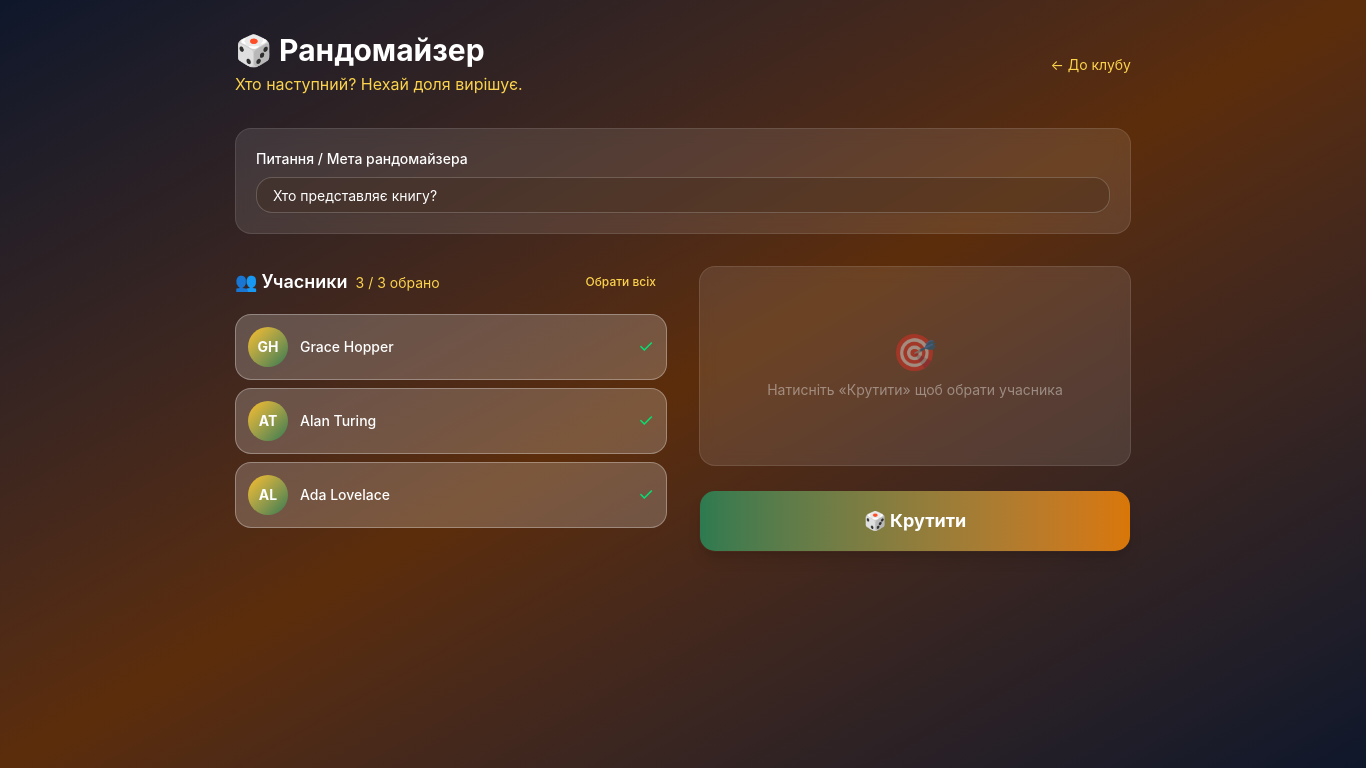
Scenario: Randomizer › needs two selected members to spin, and says so
This screenshot has width=1366, height=768.
Check: the text "Grace Hopper" is shown, box [300,338,394,355]
Click the button "AT Alan Turing ✓" at [268, 421], box [235,388,667,454]
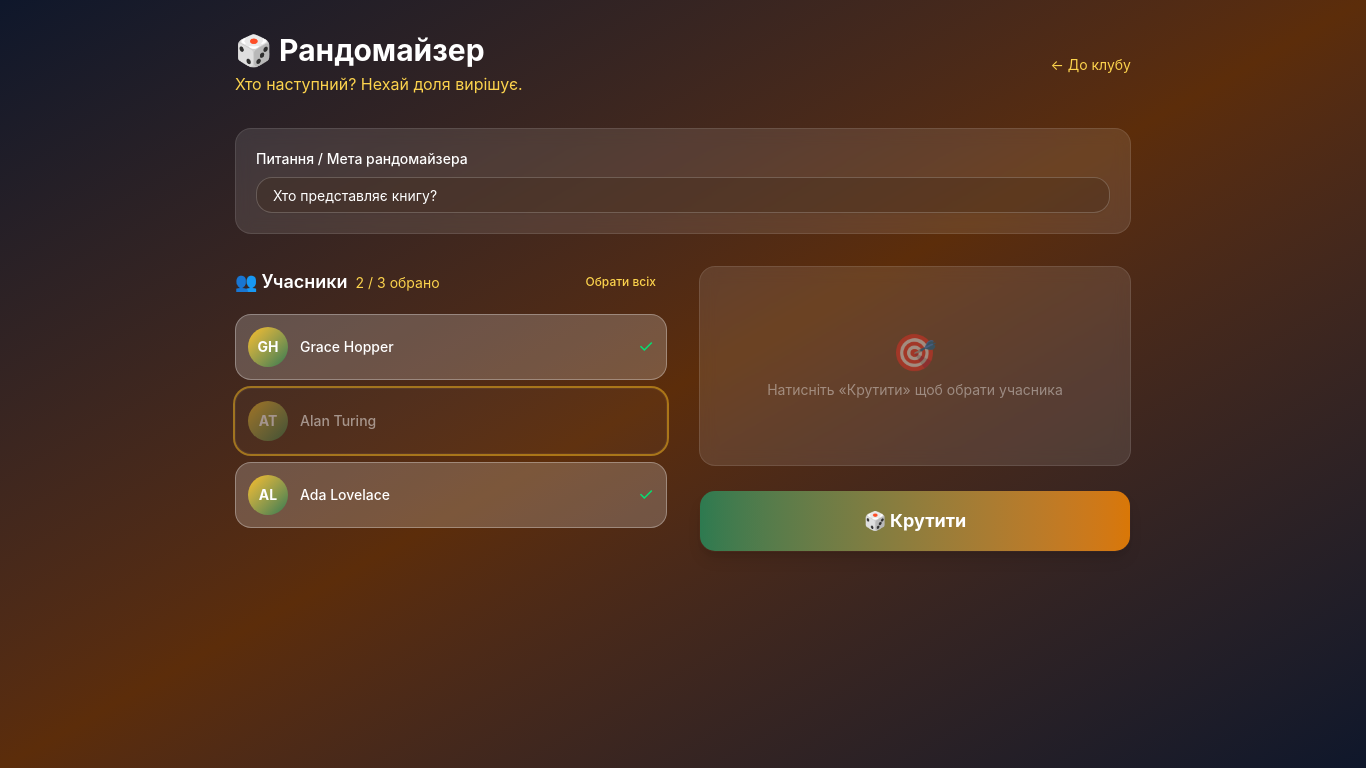
Check: the button with test id "spin-button" is enabled, box [699,490,1131,552]
Click the button "AL Ada Lovelace ✓" at [268, 495], box [235,462,667,528]
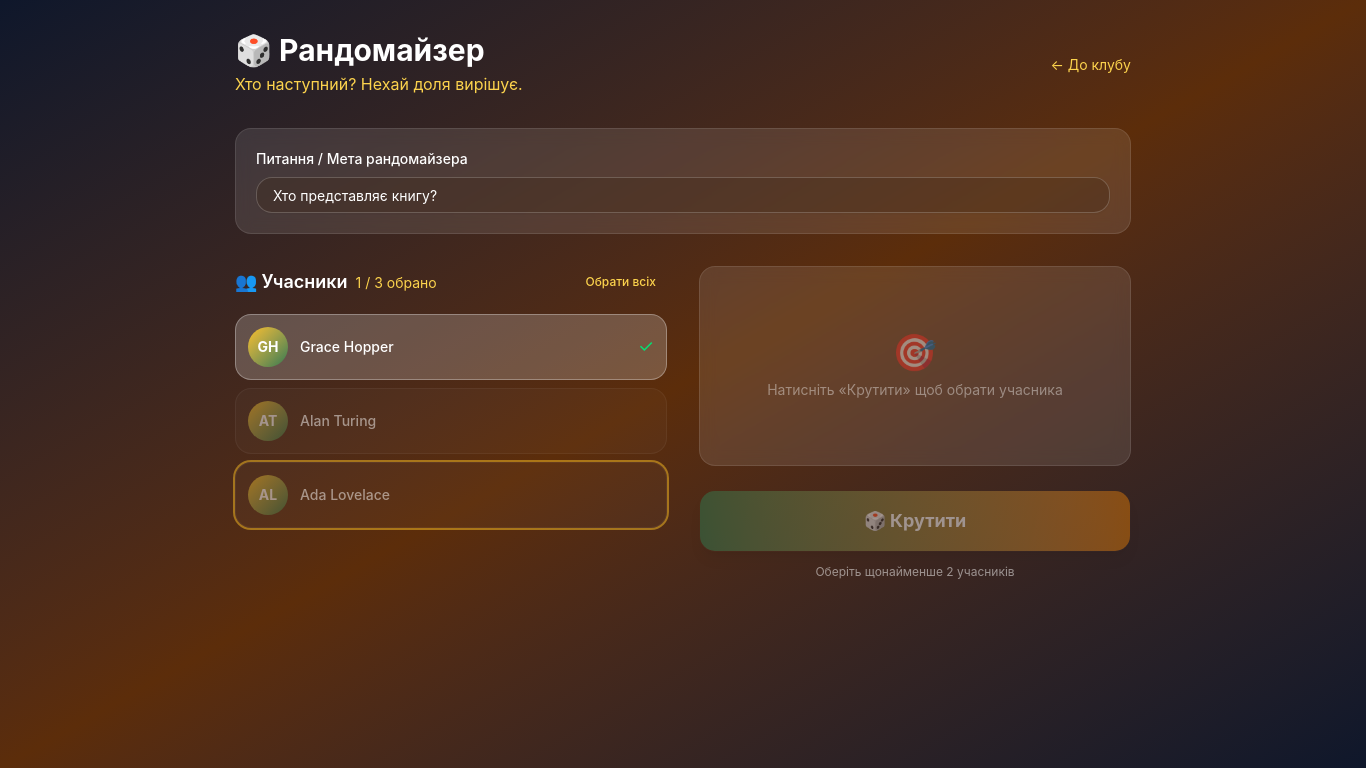
Check: the text "1 / 3 обрано" is shown, box [356,274,437,291]
Check: the button with test id "spin-button" is disabled, box [699,490,1131,552]
Check: the text "Оберіть щонайменше 2 учасників" is shown, box [815,564,1015,579]
Click the button "Обрати всіх" at [621, 282], box [574,266,667,298]
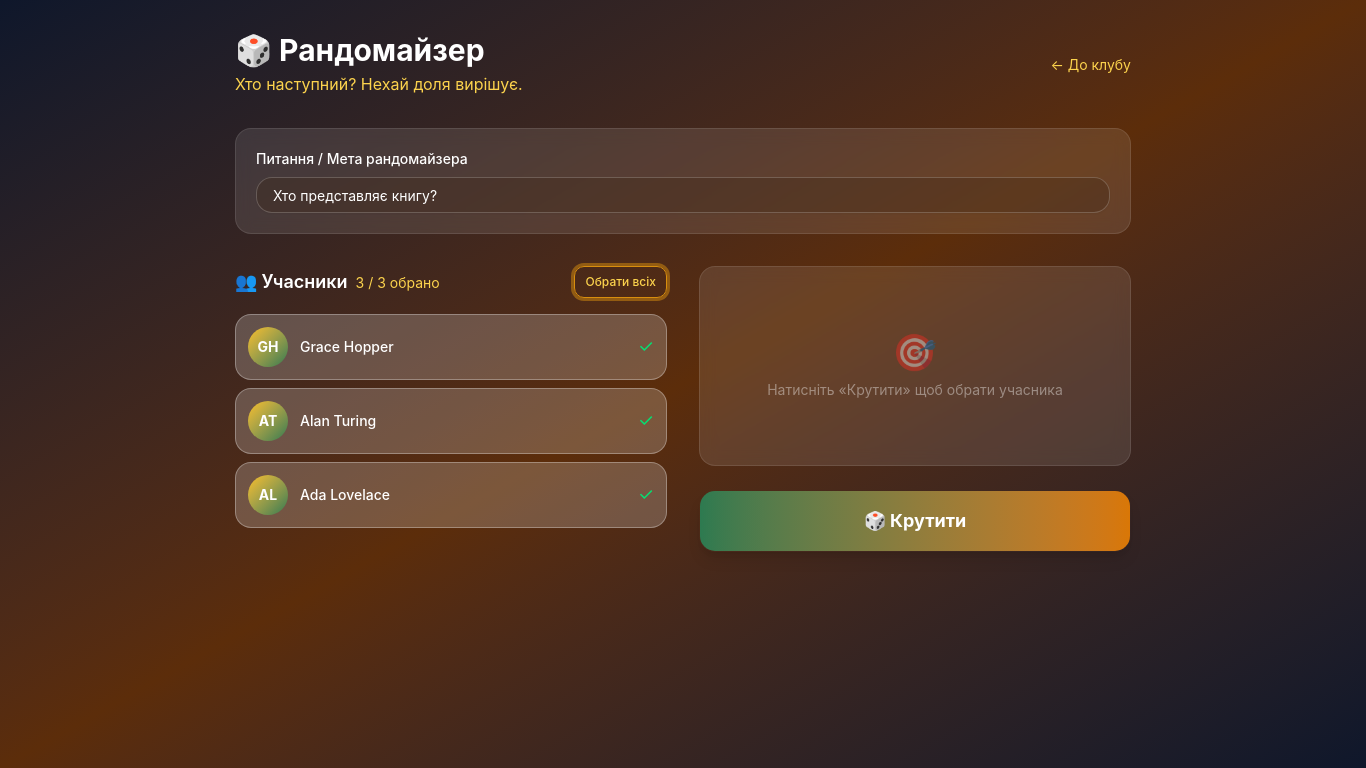
Check: the button with test id "spin-button" is enabled, box [699,490,1131,552]
